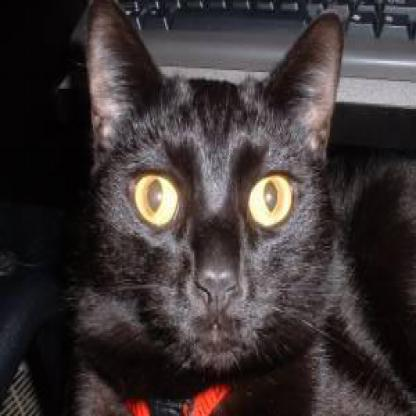cat: (74, 0, 414, 414)
